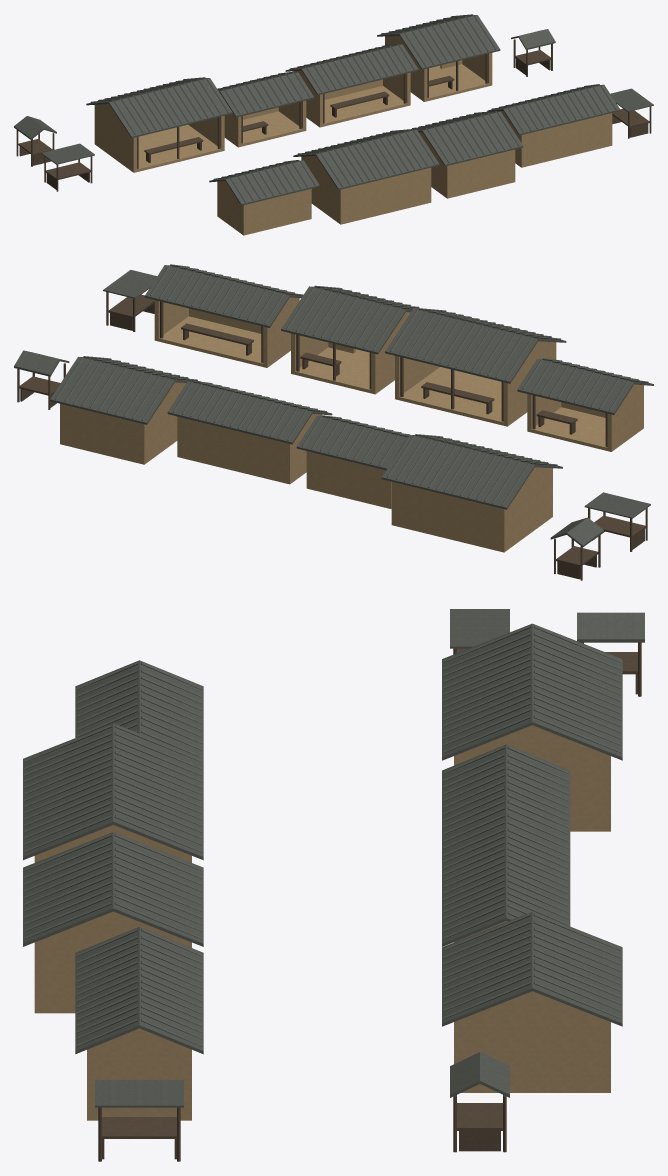
File: street_frontage-LOD1.glb
3 views of the same model, one above another, from view 1: azimuth 30°, elevation 25°; view 2: azimuth 150°, elevation 25°; view 3: azimuth 270°, elevation 25° (orthographic). The views are drawn at different scales.
Visible parts, largest first — view 1: layout__LY_P01_tile__PBR, layout__LY_P01_earth__PBR, layout__LY_P01_timber__PBR; view 2: layout__LY_P01_tile__PBR, layout__LY_P01_earth__PBR, layout__LY_P01_timber__PBR; view 3: layout__LY_P01_tile__PBR, layout__LY_P01_earth__PBR, layout__LY_P01_timber__PBR.
Boxes of the visible parts, x1=… form: layout__LY_P01_tile__PBR: x1=14, y1=14, x2=653, y2=205; layout__LY_P01_earth__PBR: x1=94, y1=35, x2=612, y2=235; layout__LY_P01_timber__PBR: x1=16, y1=39, x2=651, y2=191; layout__LY_P01_tile__PBR: x1=14, y1=264, x2=653, y2=547; layout__LY_P01_earth__PBR: x1=60, y1=297, x2=643, y2=552; layout__LY_P01_timber__PBR: x1=17, y1=292, x2=647, y2=580; layout__LY_P01_tile__PBR: x1=23, y1=609, x2=644, y2=1107; layout__LY_P01_earth__PBR: x1=34, y1=725, x2=610, y2=1120; layout__LY_P01_timber__PBR: x1=98, y1=642, x2=641, y2=1161.
Bounding box in the file's own units: 44.85 × 4.93 × 23.75.
3 materials, 3 textured.
